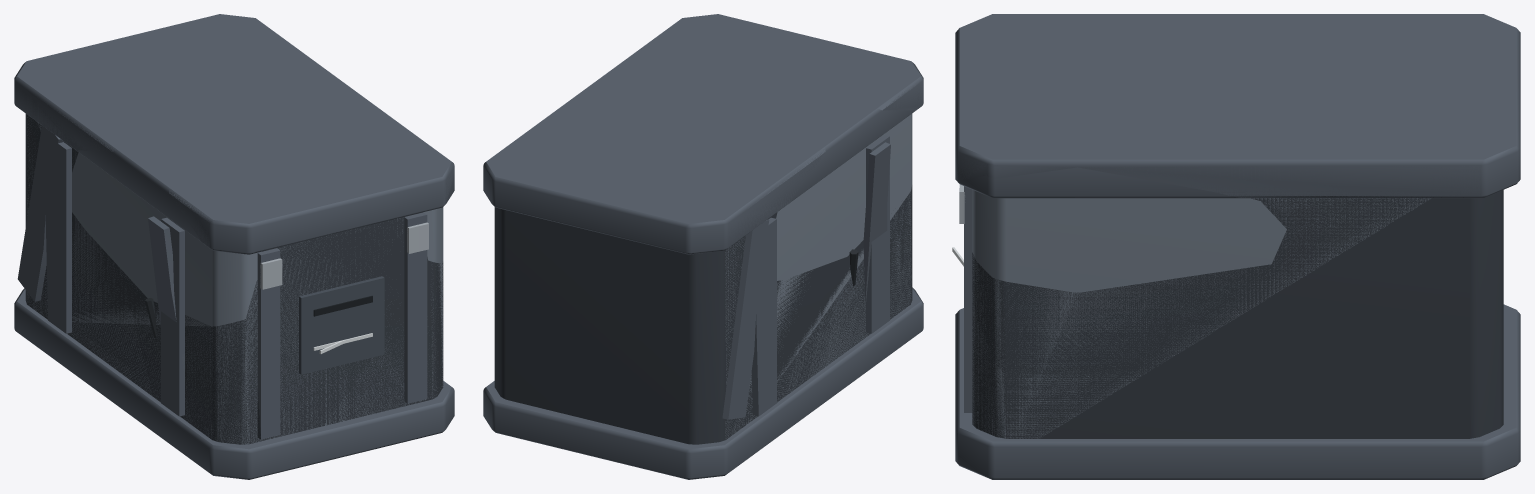
Rendered from hlx_cmp_data_crate_a.glb.
3 renders of one model, left to right at view 1: azimuth 30°, elevation 25°; view 2: azimuth 150°, elevation 25°; view 3: azimuth 270°, elevation 25°, orthographic. The views are drawn at different scales.
Visible parts, largest first — view 1: mesh_intact, mesh_heavy, mesh_light; view 2: mesh_heavy, mesh_intact, mesh_light; view 3: mesh_heavy, mesh_intact.
Part boxes in pixels (x1=…): mesh_intact: x1=15, y1=18, x2=454, y2=444; mesh_heavy: x1=14, y1=14, x2=454, y2=479; mesh_light: x1=44, y1=134, x2=426, y2=402; mesh_heavy: x1=483, y1=14, x2=923, y2=479; mesh_intact: x1=486, y1=14, x2=922, y2=438; mesh_light: x1=751, y1=142, x2=890, y2=416; mesh_heavy: x1=952, y1=14, x2=1520, y2=479; mesh_intact: x1=955, y1=14, x2=1515, y2=438.
Bounding box in the file's own units: 0.514 × 0.5 × 0.8045.
